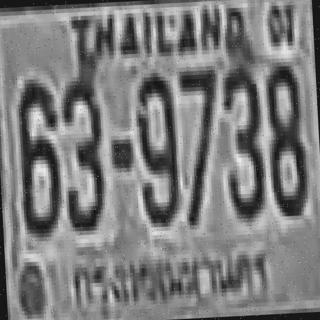N03: (60, 72, 104, 228), (220, 64, 263, 215)
N06: (15, 76, 61, 236)
N07: (177, 64, 221, 224), (177, 66, 218, 181)
N08: (264, 60, 307, 211)
N09: (134, 68, 178, 224)
P04: (64, 235, 275, 319)
